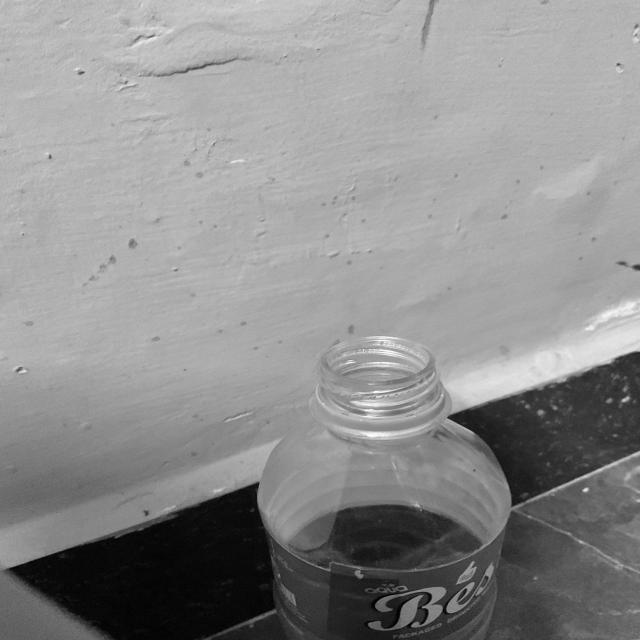open-cap: (310, 334, 454, 428)
